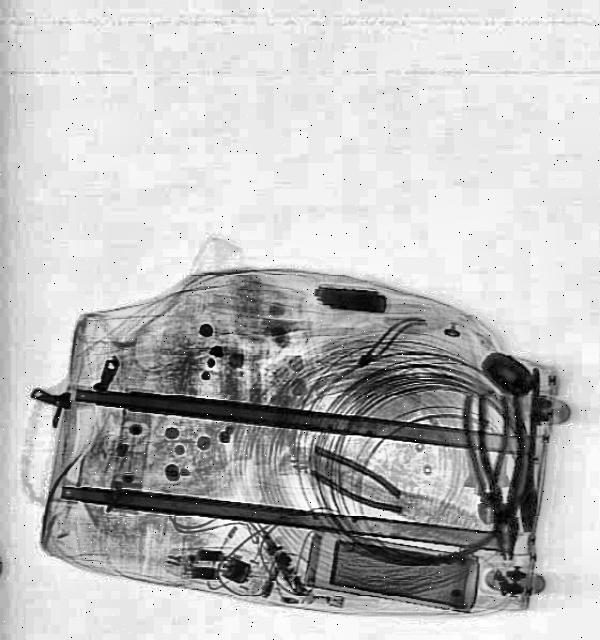Pliers: (476, 392, 532, 558), (461, 394, 513, 524)
